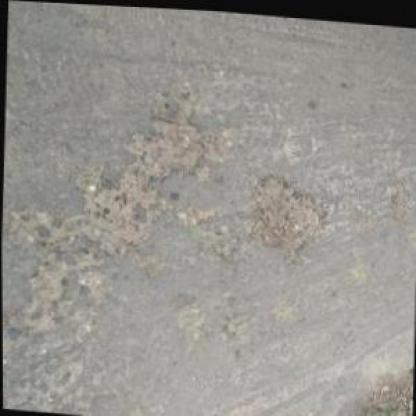pothole: (79, 173, 166, 265), (247, 169, 327, 268), (123, 111, 208, 184)
